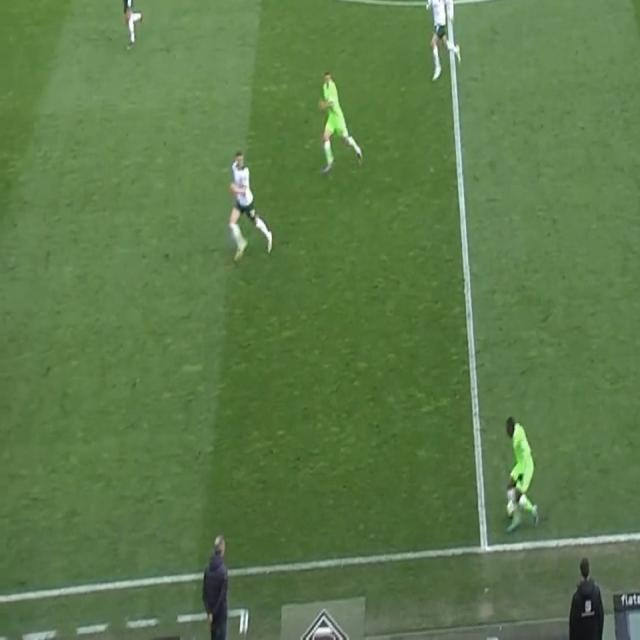ball: (507, 498, 518, 518)
